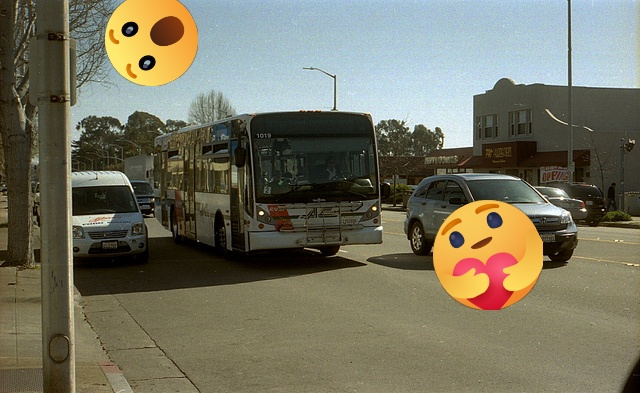care: (433, 200, 543, 310)
wow: (105, 0, 198, 86)
